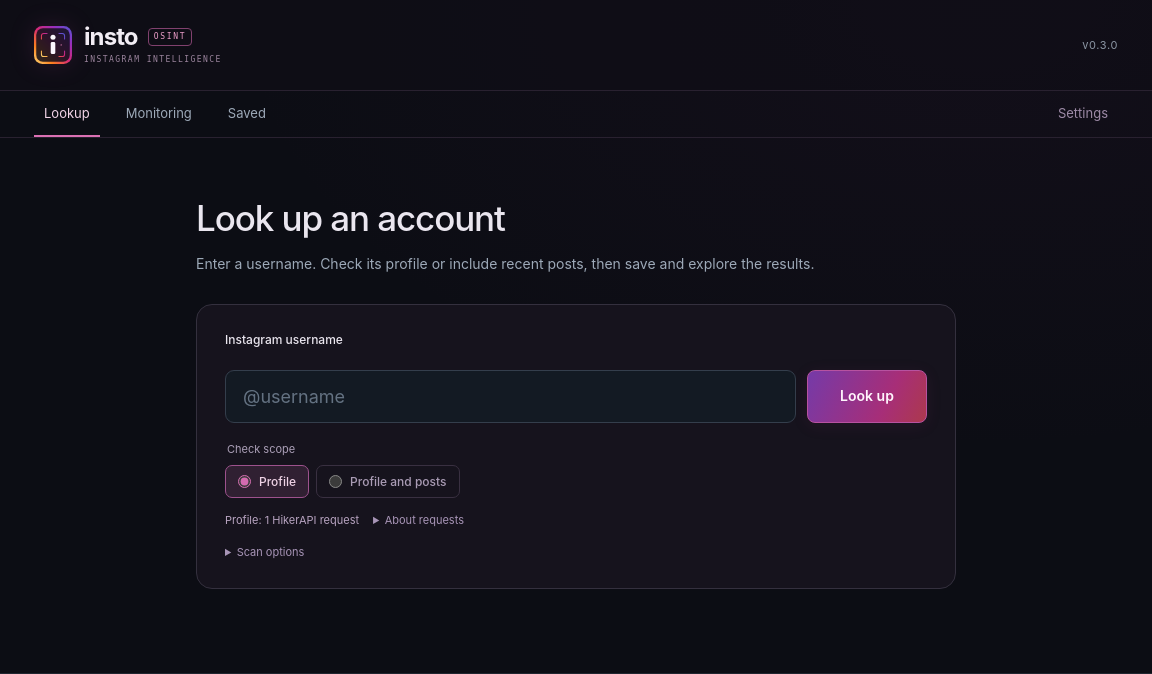
it: application integration › a configured profile lands on Lookup and monitoring keeps its local overview poll
Expected: the panel shows "Look up an account", [196,198,505,240]
Click the tab with id "tab-watches". click: (159, 114)
box: [116,91,202,137]
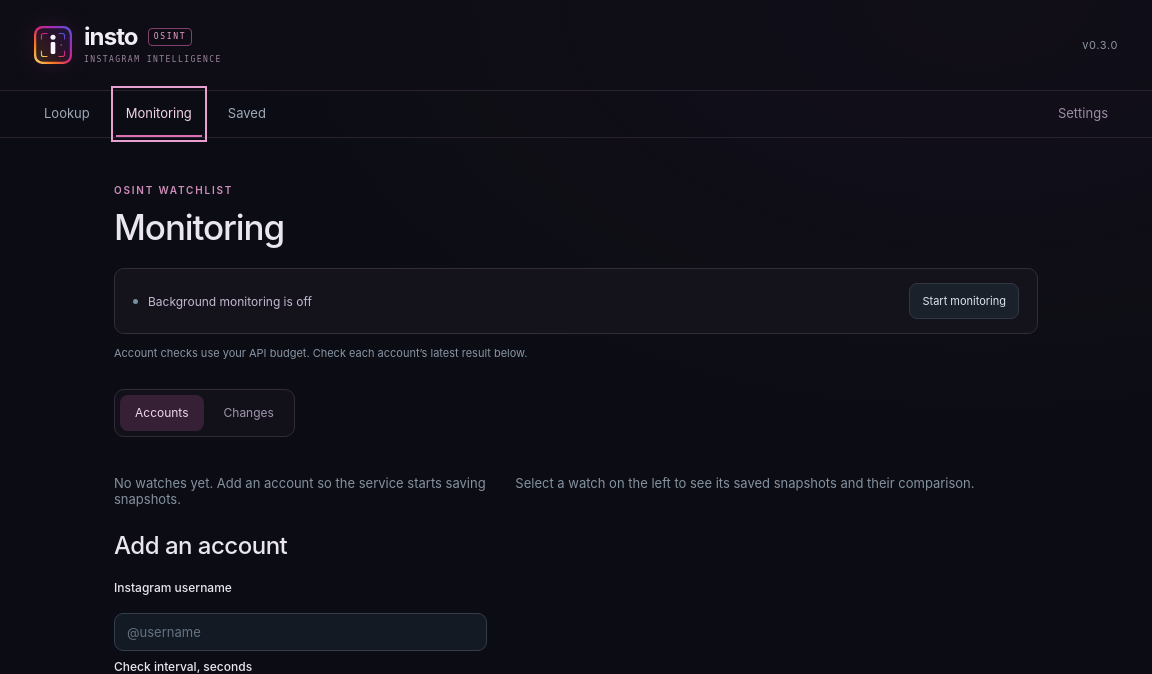
Click the button with id "tab-changes". click: (249, 413)
box: [208,395,289,431]
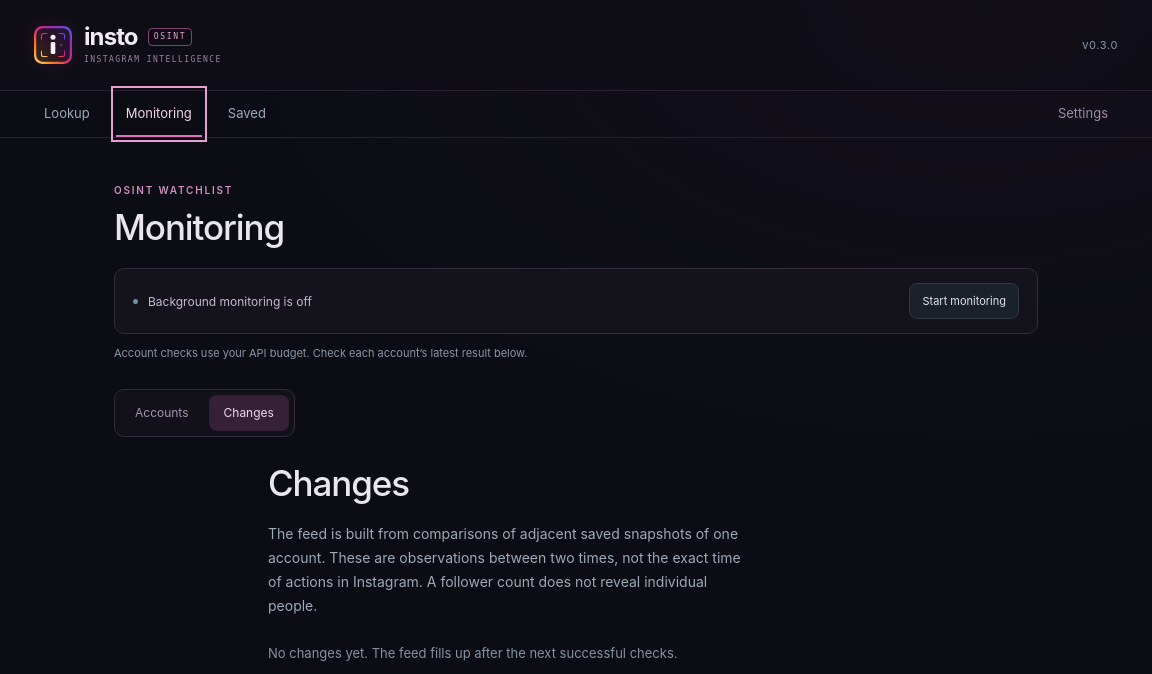
Click the tab with id "tab-lookup". click: (67, 114)
box: [34,91,100,137]
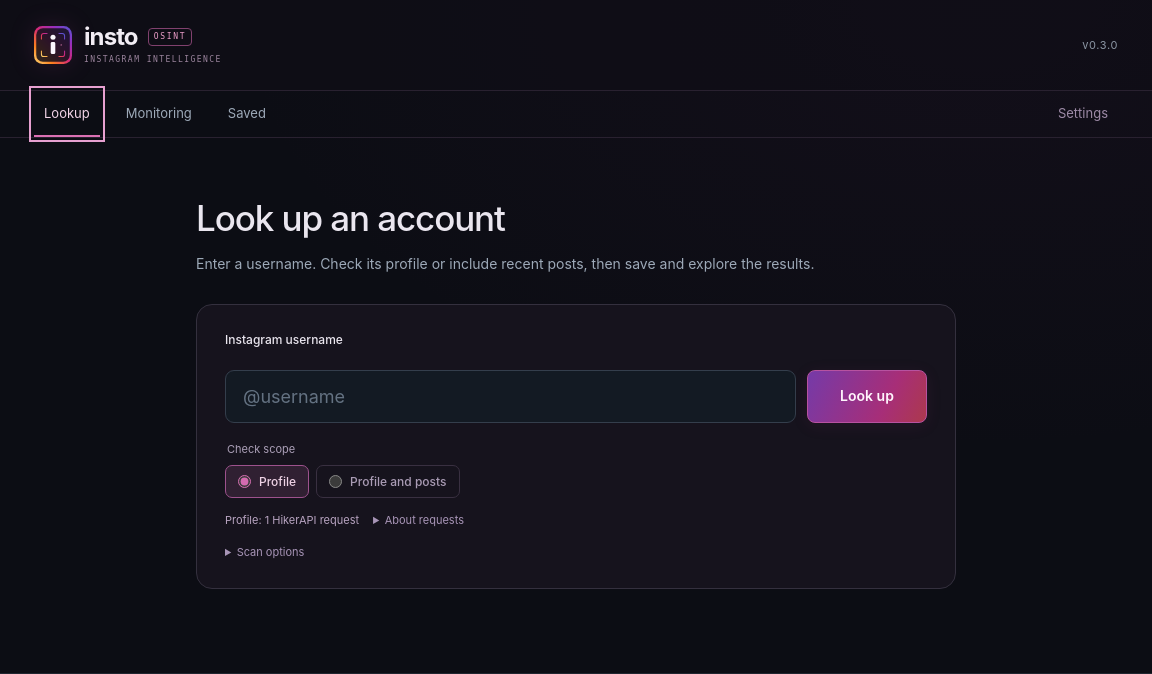
Now the panel shows "Look up an account", box [196,198,505,240]
Click the tab with id "tab-settings". click: (1083, 114)
box: [1048,91,1118,137]
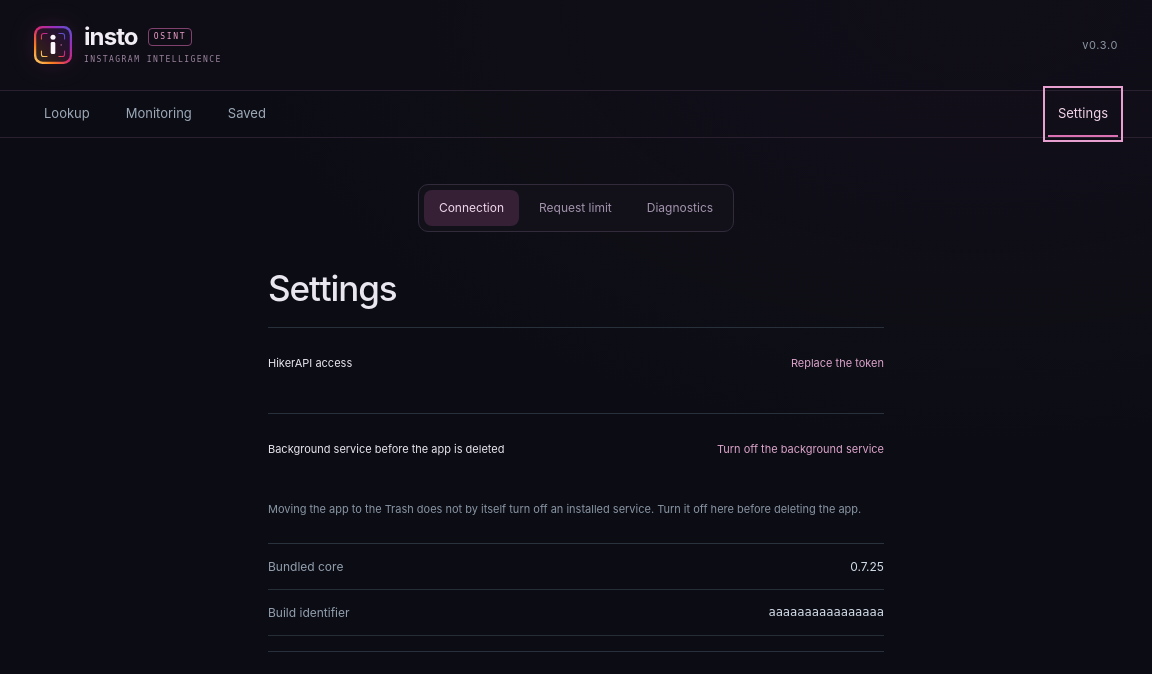
Click the button with id "tab-service". click: (680, 208)
box: [632,190,728,226]
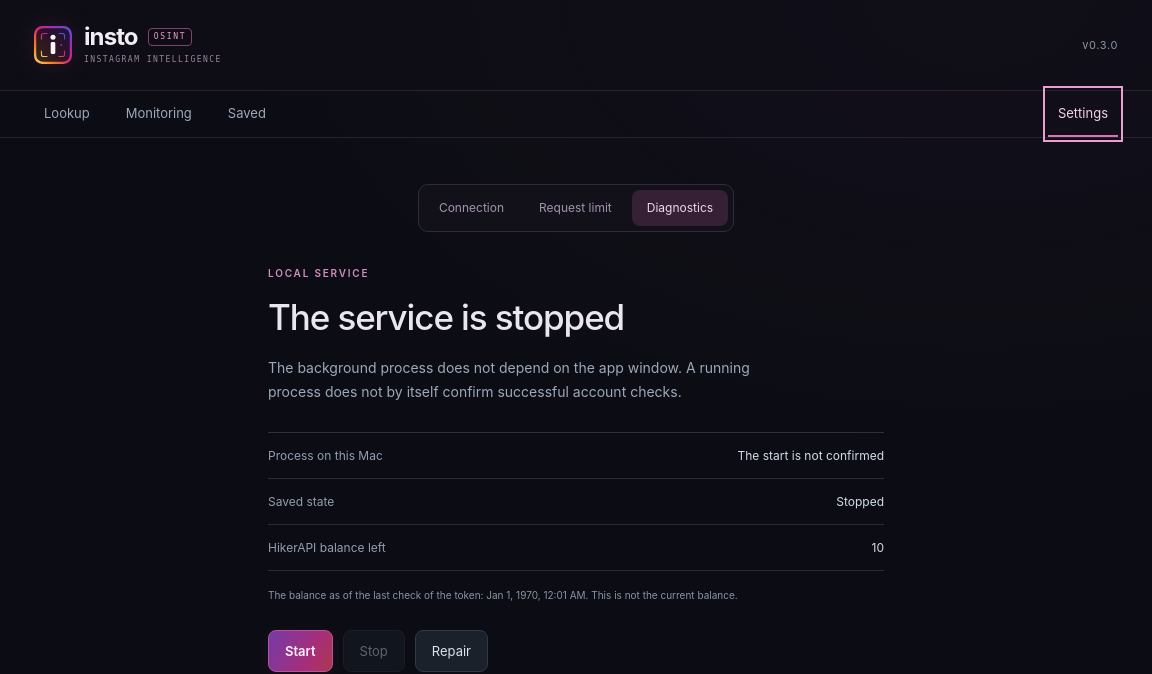
Now the text "The service is stopped" is shown, box [268,296,624,338]
Click the tab with id "tab-settings". click: (1083, 114)
box: [1048,91,1118,137]
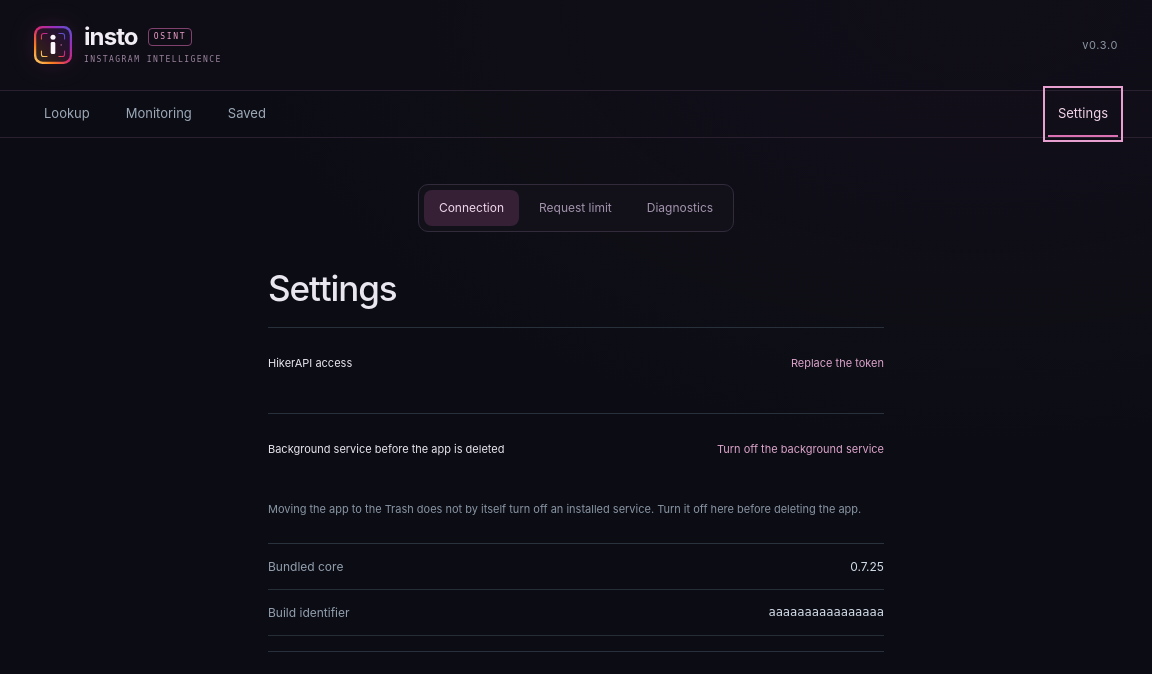
Now the text "Replace the token" is shown, box [791,350,884,376]
